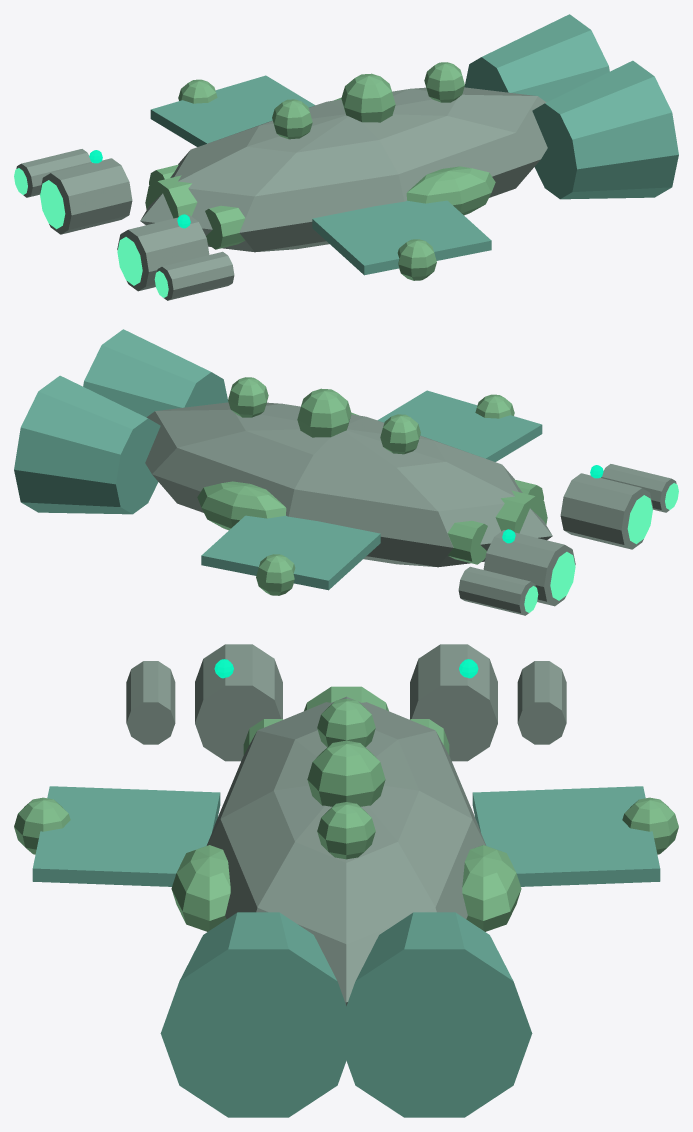
Rendered from harvester_cruiser.glb.
3 views of the same model, one above another, from view 1: azimuth 30°, elevation 25°; view 2: azimuth 150°, elevation 25°; view 3: azimuth 270°, elevation 25° (orthographic). The views are drawn at different scales.
Parts seen in each view (by area): view 1: Hull, Scoop-1, Wing-1, Scoop1, Wing1, Eng0.22, Eng-0.22, Pod-1, Eng-0.4, Dome0.05, Eng0.4, Reactor3 (+7 smaller); view 2: Hull, Scoop1, Wing1, Scoop-1, Wing-1, Eng-0.22, Eng0.22, Pod1, Eng0.4, Dome0.05, Eng-0.4, Reactor2 (+7 smaller); view 3: Hull, Scoop-1, Scoop1, Wing-1, Wing1, Eng-0.22, Eng0.22, Dome0.05, Pod-1, Pod1, Eng-0.4, Eng0.4 (+5 smaller).
Boxes of the visible parts, left/top/right/bottom form: Hull: left=140, top=87, right=547, bottom=252; Scoop-1: left=532, top=60, right=678, bottom=199; Wing-1: left=312, top=200, right=491, bottom=275; Scoop1: left=464, top=14, right=609, bottom=102; Wing1: left=150, top=75, right=315, bottom=146; Eng0.22: left=40, top=158, right=132, bottom=234; Eng-0.22: left=117, top=215, right=209, bottom=291; Pod-1: left=406, top=166, right=495, bottom=215; Eng-0.4: left=157, top=251, right=234, bottom=300; Dome0.05: left=341, top=73, right=395, bottom=122; Eng0.4: left=16, top=149, right=91, bottom=197; Reactor3: left=205, top=205, right=245, bottom=249; Hull: left=145, top=402, right=552, bottom=567; Scoop1: left=14, top=375, right=160, bottom=514; Wing1: left=201, top=515, right=380, bottom=590; Scoop-1: left=83, top=329, right=228, bottom=417; Wing-1: left=377, top=390, right=542, bottom=461; Eng-0.22: left=560, top=473, right=652, bottom=549; Eng0.22: left=483, top=530, right=575, bottom=606; Pod1: left=197, top=481, right=286, bottom=530; Eng0.4: left=458, top=566, right=535, bottom=615; Dome0.05: left=297, top=388, right=351, bottom=437; Eng-0.4: left=601, top=464, right=676, bottom=512; Reactor2: left=447, top=520, right=487, bottom=564; Hull: left=206, top=696, right=486, bottom=1005; Scoop-1: left=160, top=912, right=356, bottom=1117; Scoop1: left=336, top=912, right=532, bottom=1117; Wing-1: left=32, top=786, right=220, bottom=886; Wing1: left=472, top=786, right=660, bottom=886; Eng-0.22: left=195, top=644, right=282, bottom=761; Eng0.22: left=410, top=644, right=497, bottom=761; Dome0.05: left=307, top=740, right=385, bottom=806; Pod-1: left=171, top=845, right=230, bottom=931; Pod1: left=462, top=845, right=521, bottom=931; Eng-0.4: left=126, top=661, right=175, bottom=744; Eng0.4: left=517, top=661, right=566, bottom=744.
Bounding box in the file's own units: 1.71 × 0.4702 × 1.36.
